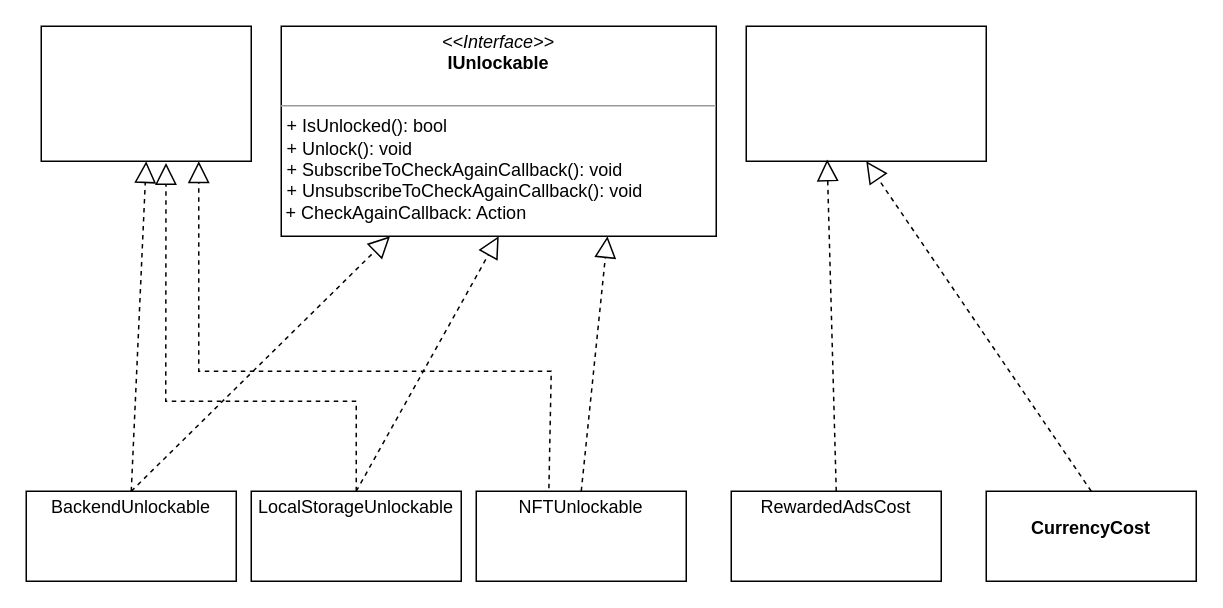
Some shapes in this 1223 by 608 pixel diagram are drawn without their labels. The shapes that lost their labels are listed below. From the top down, each one's centre as x and y in pixels, then its label:
point 145,93: <<Interface>> ILoader + Load(): Task
point 865,93: <<Interface>> IUnlockCost + PayCost(): Task<bool>
